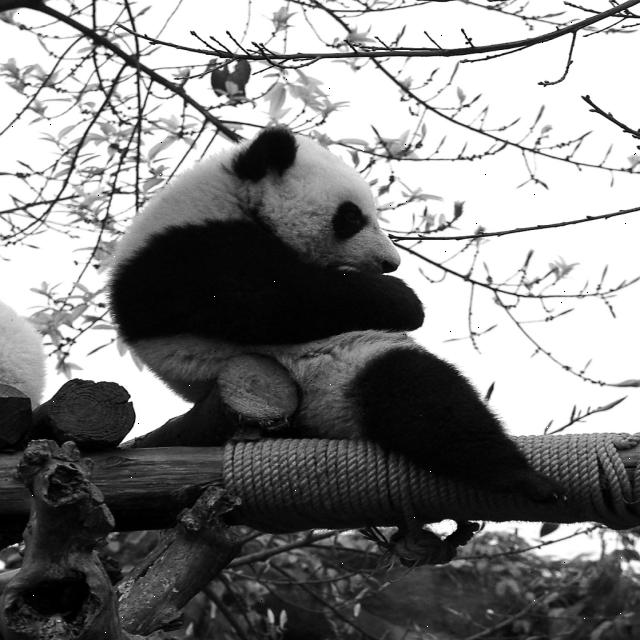panda: (104, 119, 575, 511), (0, 301, 44, 411)
